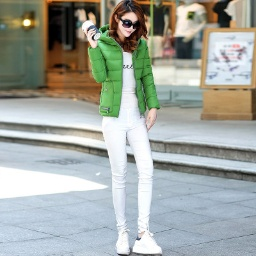face: (96, 2, 166, 53)
